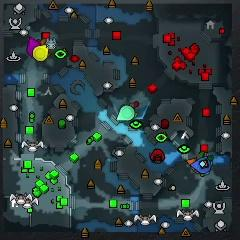p1: (190, 156, 212, 174)
p2: (115, 105, 135, 121)
p3: (27, 36, 40, 56)
p4: (32, 44, 49, 62)
p5: (186, 158, 200, 174)
x4: (197, 151, 214, 161)
x5: (37, 36, 48, 46)
